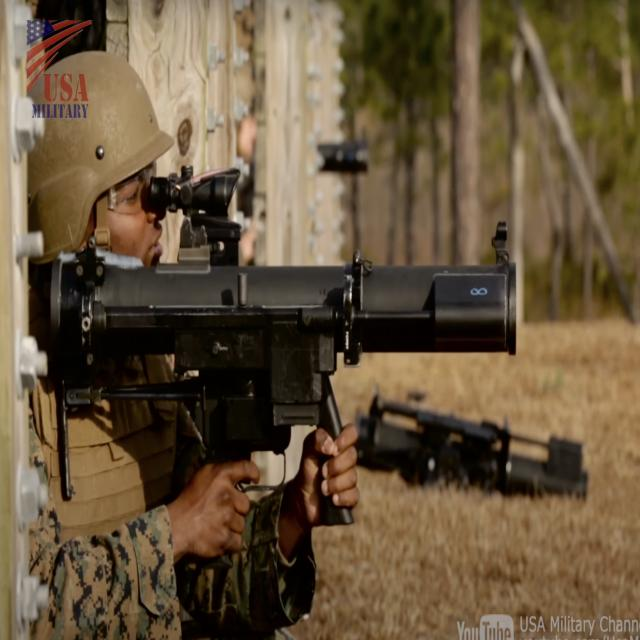bazooka: (34, 158, 523, 517)
